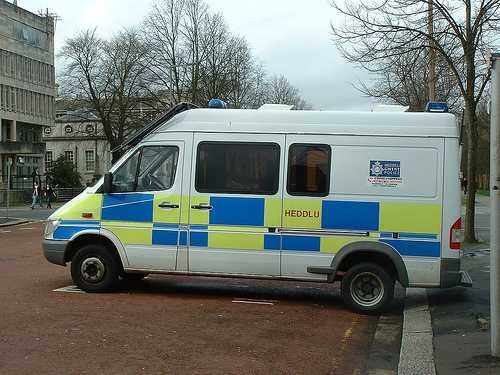Police Van: (47, 79, 491, 344)
